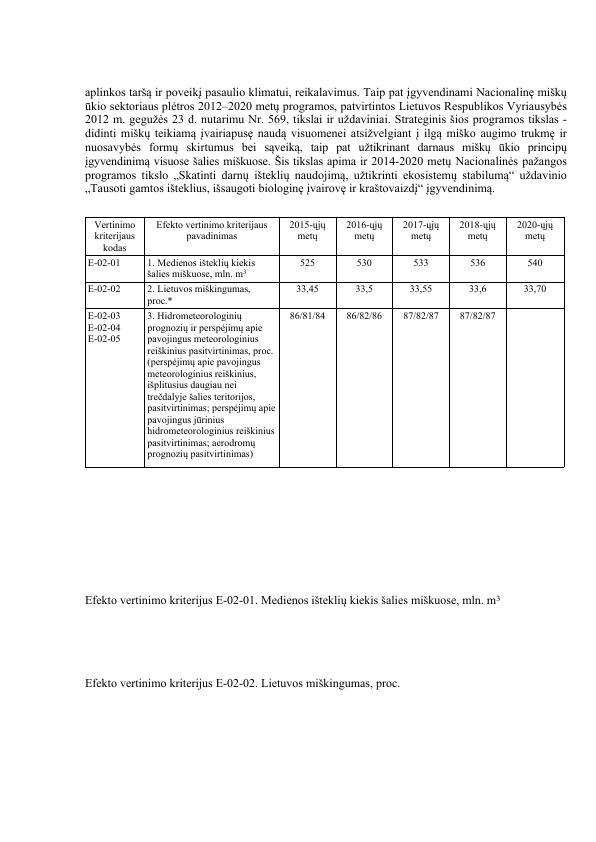table: (79, 214, 568, 473)
text: (80, 83, 572, 199), (80, 590, 507, 613), (82, 673, 401, 697)
